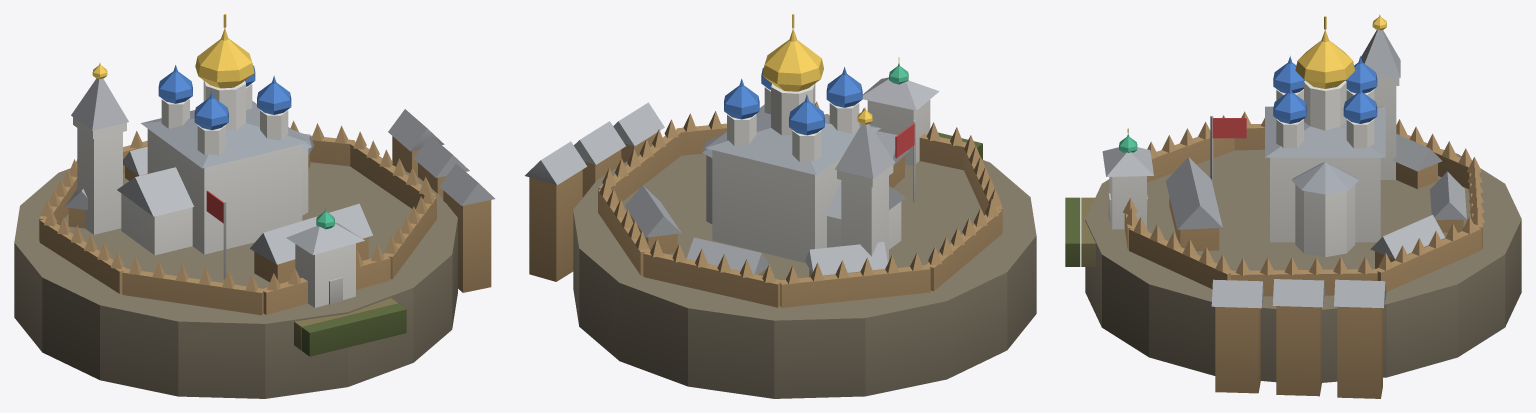
Rendered from abbey_rus_a.glb.
The picture shows the model from 3 angles, left to right: view 1: azimuth 30°, elevation 25°; view 2: azimuth 150°, elevation 25°; view 3: azimuth 270°, elevation 25°; orthographic projection. The views are drawn at different scales.
Parts seen in each view (by area): view 1: abbey_rus_a; view 2: abbey_rus_a; view 3: abbey_rus_a.
Part boxes in pixels (x1,y1,x2,y2): abbey_rus_a: (14, 14, 495, 398); abbey_rus_a: (525, 14, 1036, 398); abbey_rus_a: (1065, 14, 1521, 398).
Bounding box in the file's own units: 2.17 × 1.39 × 2.09.
